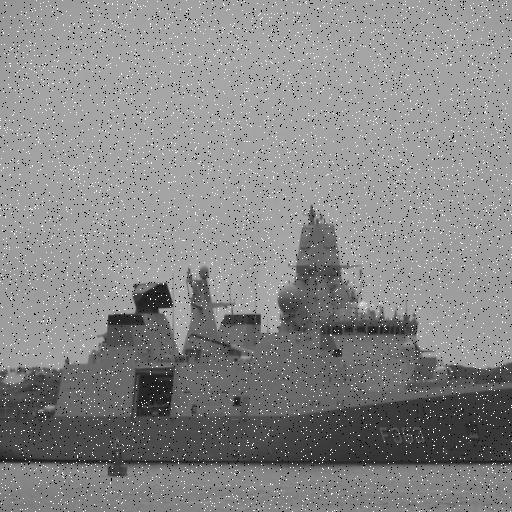Fragata: (1, 198, 512, 469)
